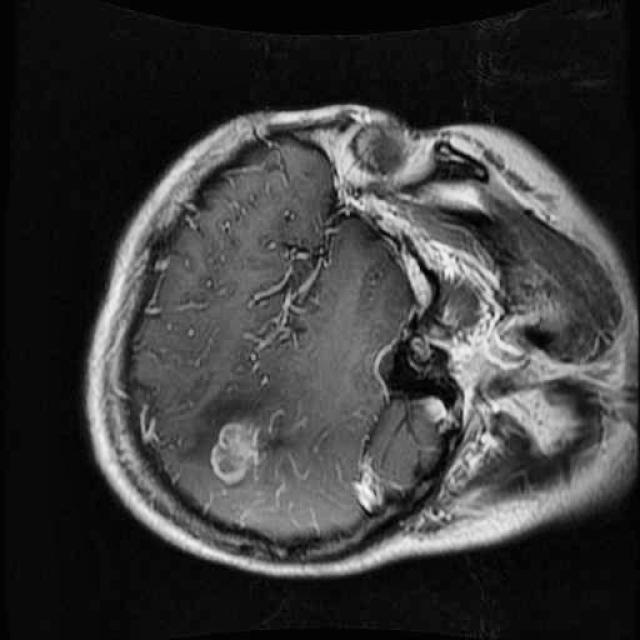Non-Tumor: (195, 394, 281, 499)
